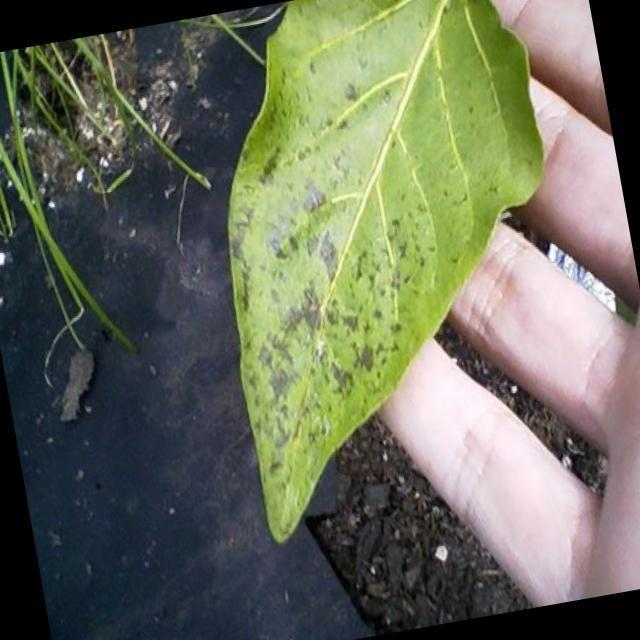Bacterial Spot: (214, 128, 421, 399)
